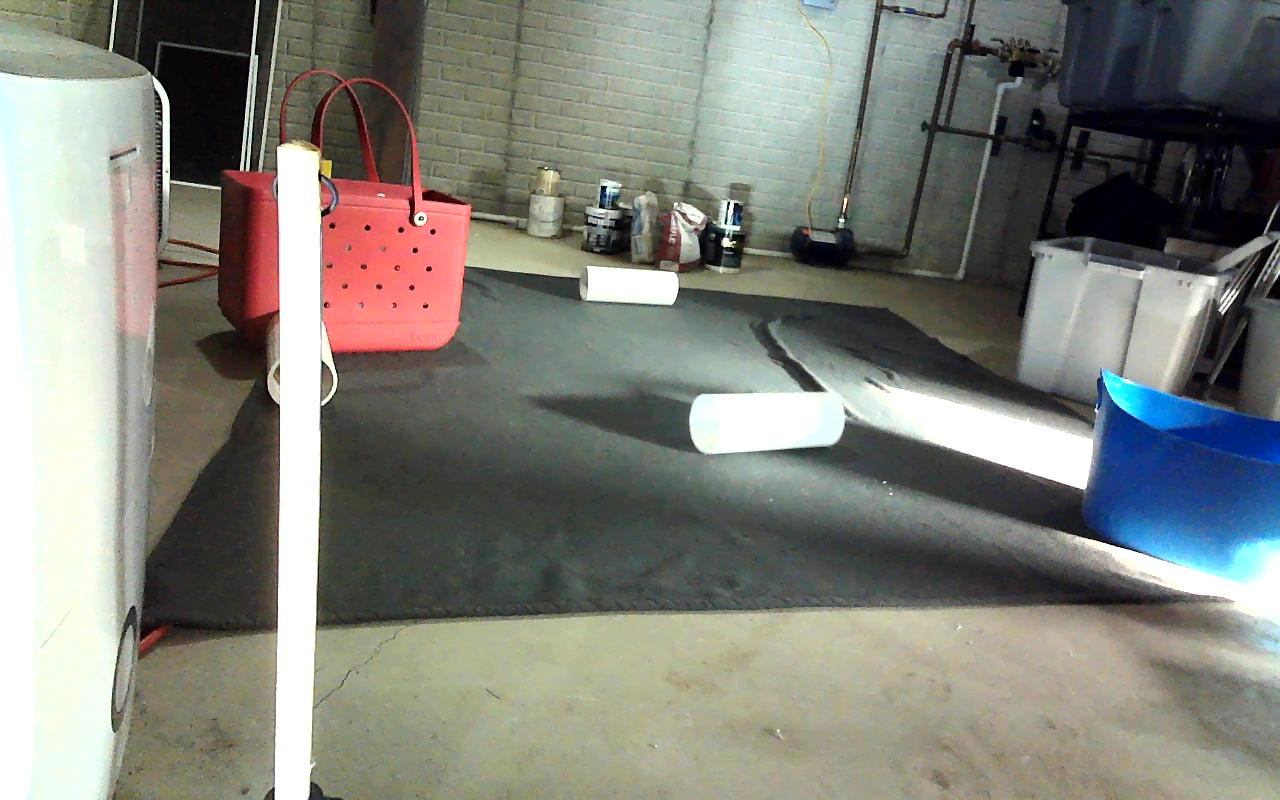coral: (689, 390, 844, 453), (267, 310, 336, 407), (581, 266, 678, 305)
